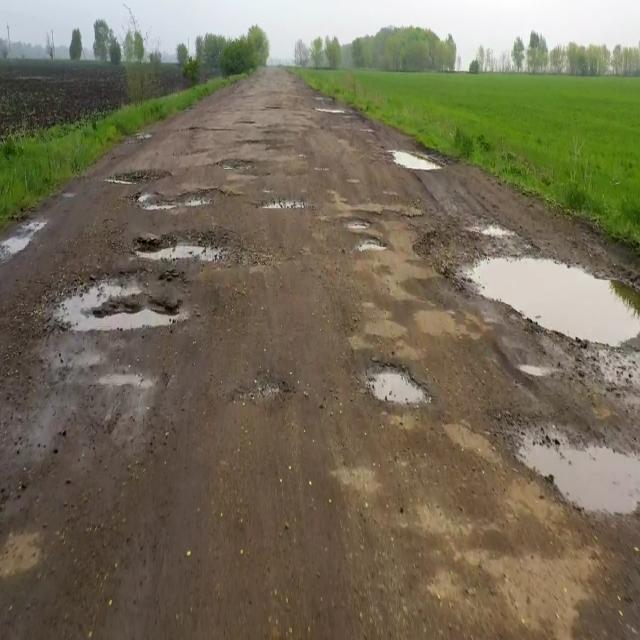road-pothole: (454, 261, 639, 350), (520, 433, 637, 507), (49, 276, 180, 335), (363, 368, 420, 411), (1, 219, 48, 259), (140, 191, 233, 211), (134, 241, 210, 262), (391, 153, 438, 172), (264, 197, 304, 213), (359, 237, 387, 252), (347, 215, 365, 231)
